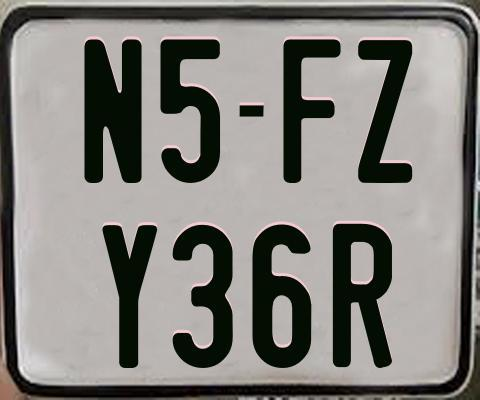3: (170, 224, 236, 368)
5: (157, 37, 223, 183)
6: (249, 224, 312, 374)
F: (282, 39, 341, 183)
N: (81, 39, 140, 188)
R: (331, 221, 395, 371)
Y: (101, 222, 160, 370)
Z: (356, 40, 410, 186)
